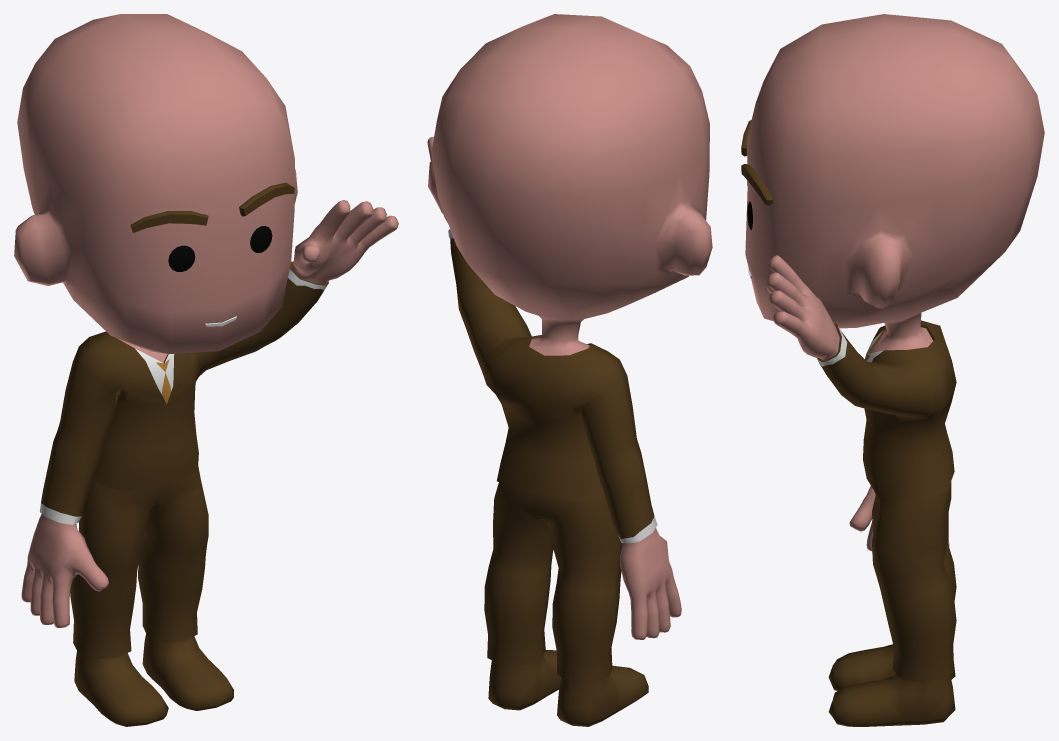
Rendered from Personajes_juzgado.fbx.
The picture shows the model from 3 angles, left to right: view 1: azimuth 30°, elevation 25°; view 2: azimuth 150°, elevation 25°; view 3: azimuth 270°, elevation 25°; orthographic projection.
Visible parts, largest first — view 1: body.004, shirt3.004, pants1.004, socks.004, eyebrows1.004, eyes6.004; view 2: body.004, shirt3.004, pants1.004, socks.004; view 3: body.004, shirt3.004, pants1.004, socks.004, eyebrows1.004.
Part boxes in pixels (x1,y1,x2,y2): body.004: (14, 14, 398, 627); shirt3.004: (40, 261, 328, 524); pants1.004: (70, 467, 208, 658); socks.004: (74, 633, 233, 726); eyebrows1.004: (130, 182, 294, 232); eyes6.004: (168, 226, 272, 271); body.004: (427, 14, 712, 639); shirt3.004: (448, 229, 657, 543); pants1.004: (484, 482, 622, 683); socks.004: (488, 650, 648, 726); body.004: (745, 14, 1044, 551); shirt3.004: (817, 320, 956, 499); pants1.004: (872, 481, 956, 682); socks.004: (828, 644, 955, 726); eyebrows1.004: (741, 120, 773, 205).
Size of the model in its own units: 88.89 by 171 by 69.94.
